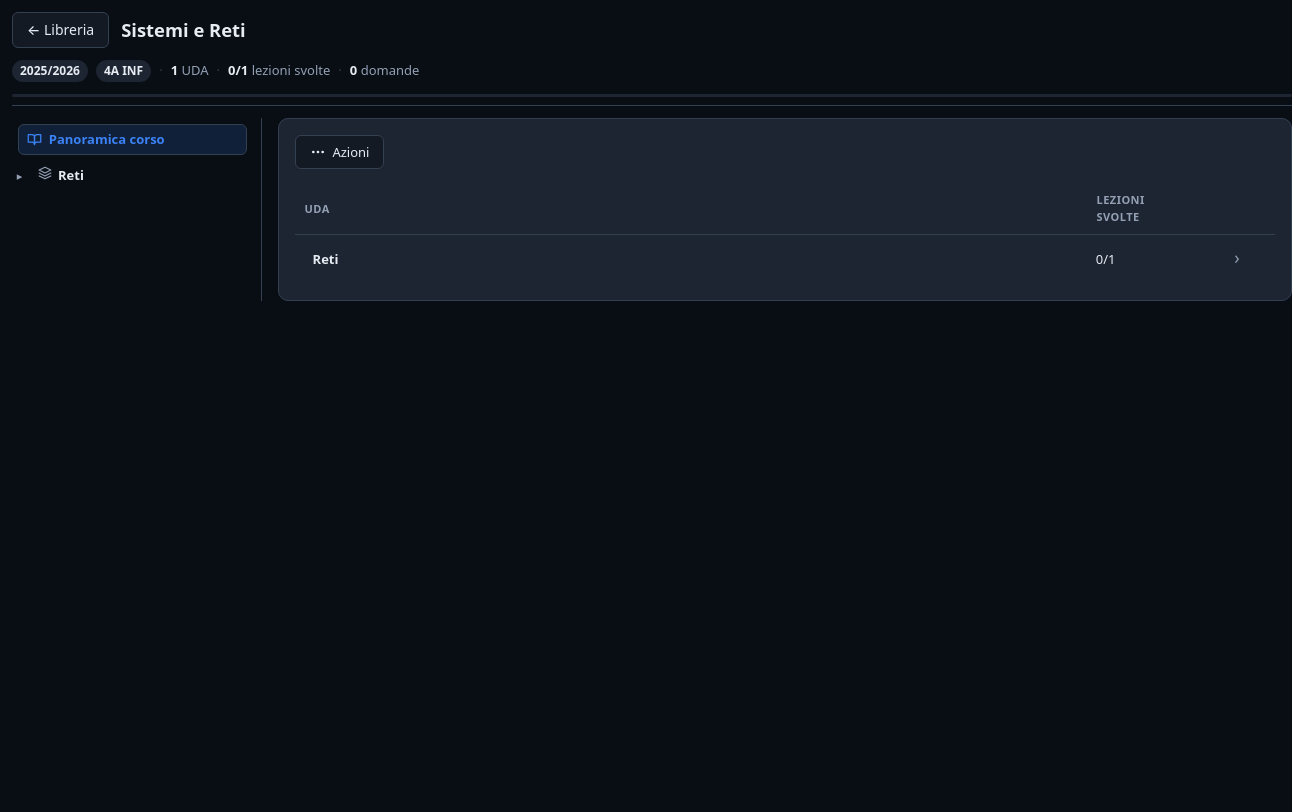
CourseWorkspace — content load diagnostics + retry (MOB-01B) › shows non-sensitive technical details on failure
Expected: the button with aria-label "uda-01-reti" is shown, [30, 160, 253, 190]
Click the button named "Espandi uda-01-reti" at (20, 175), box [12, 164, 27, 187]
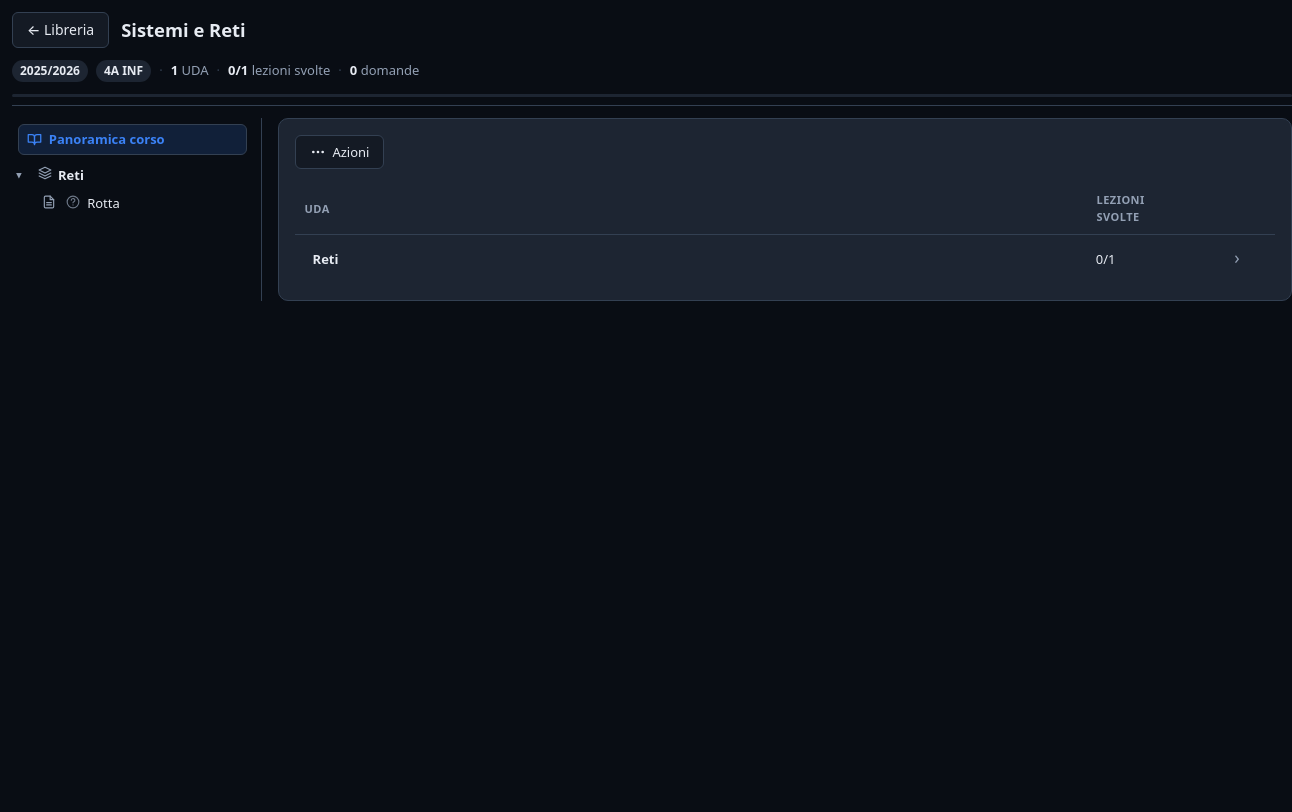
Click the button "Rotta" at (144, 204), box [34, 190, 253, 218]
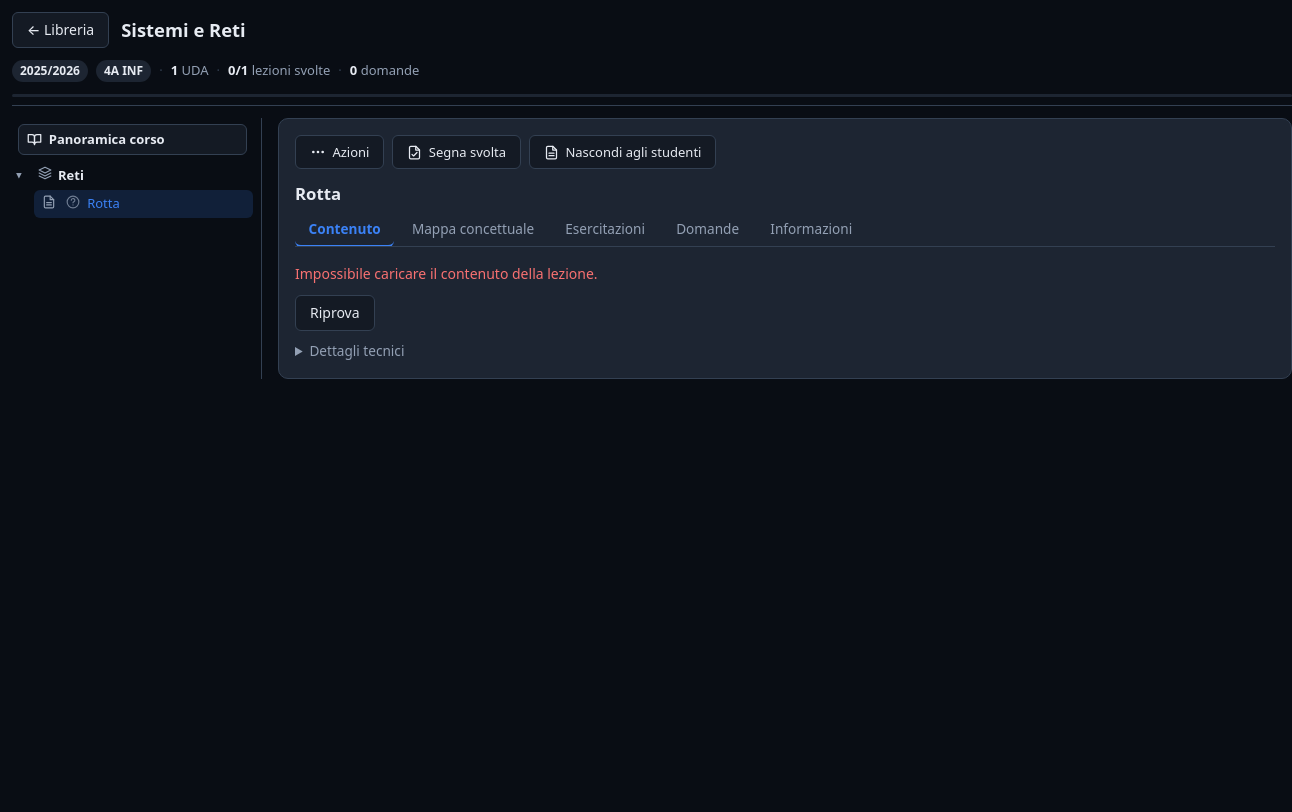
Now the button "Riprova" is shown, box [295, 295, 375, 331]
Click the heading "Dettagli tecnici" at (357, 351), box [309, 341, 404, 360]
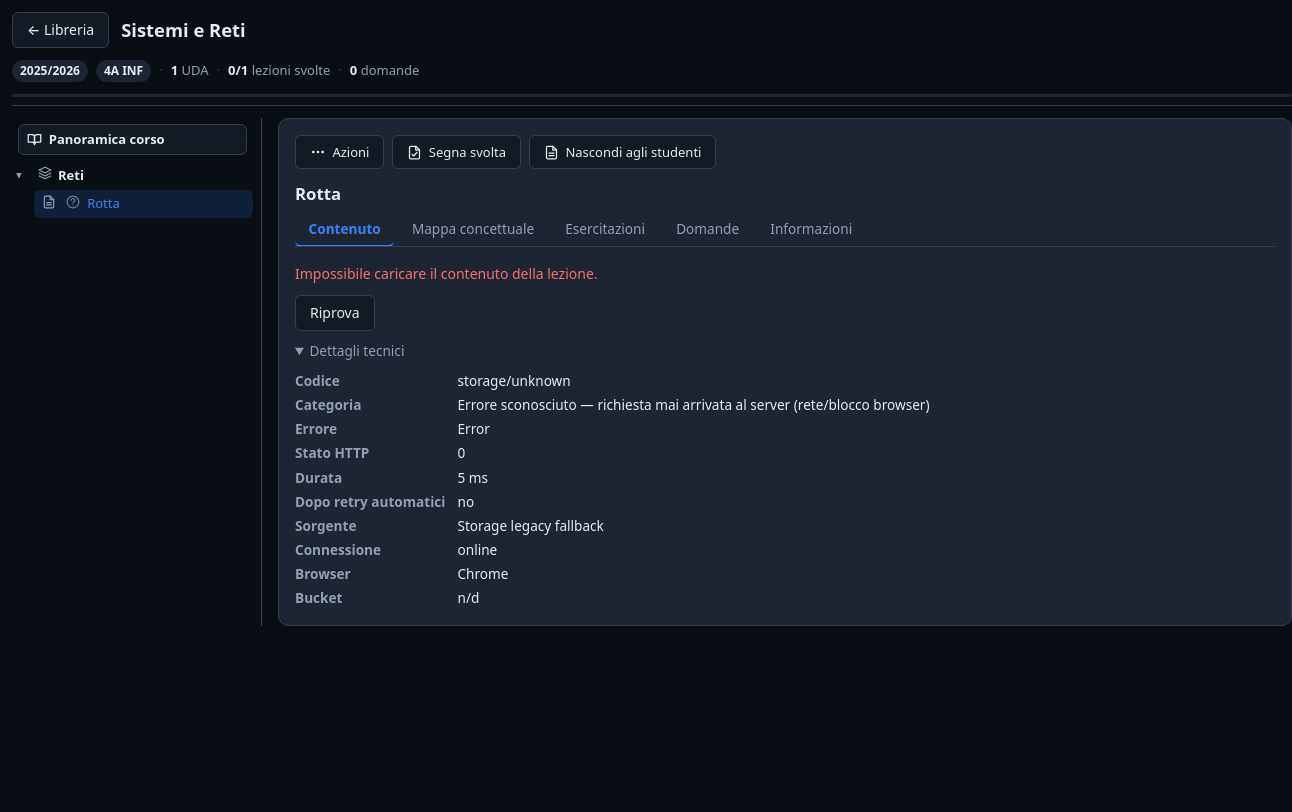
Now the text "storage/unknown" is shown, box [458, 371, 571, 390]
Now the text "Codice" is shown, box [295, 371, 340, 390]
Now the text "Stato HTTP" is shown, box [295, 444, 369, 462]
